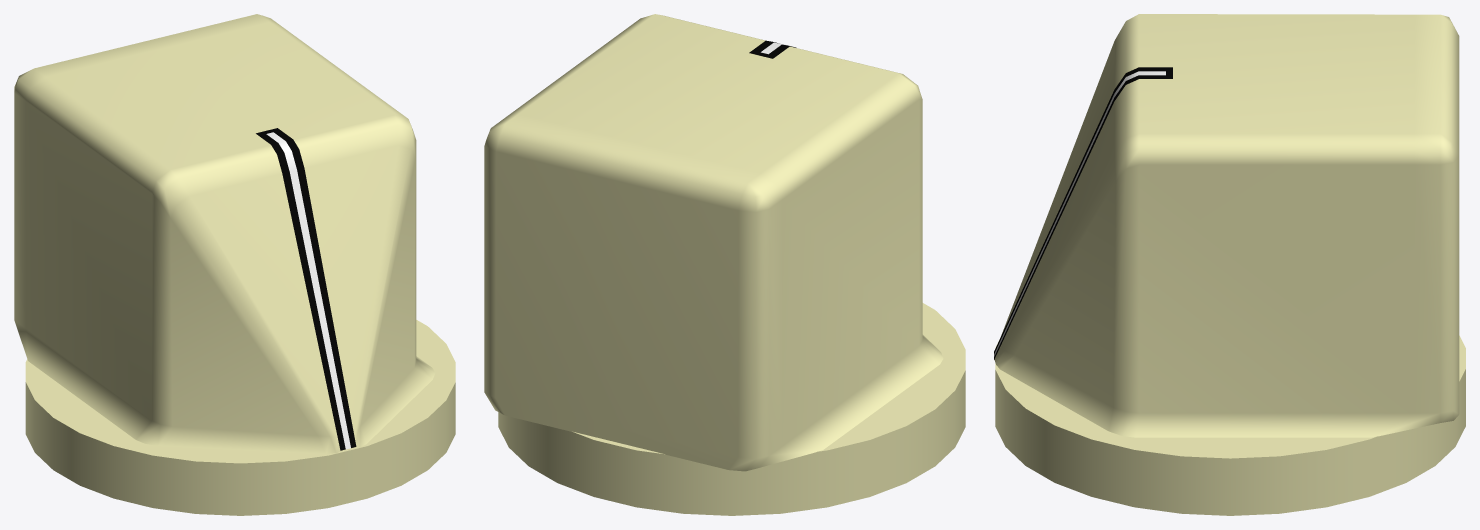
Rendered from Pull_Selector_Knob_V1.fbx.
3 renders of one model, left to right at view 1: azimuth 30°, elevation 25°; view 2: azimuth 150°, elevation 25°; view 3: azimuth 270°, elevation 25°, orthographic. The views are drawn at different scales.
Parts seen in each view (by area): view 1: Knob, Pull_Selector_Knob, Trim; view 2: Knob, Pull_Selector_Knob; view 3: Knob, Pull_Selector_Knob, Trim.
Boxes of the visible parts, box(x1,y1,x2,y2) form: Knob: box(14, 14, 435, 453); Pull_Selector_Knob: box(25, 320, 455, 515); Trim: box(256, 128, 356, 450); Knob: box(484, 14, 943, 471); Pull_Selector_Knob: box(498, 303, 965, 515); Knob: box(994, 14, 1459, 437); Pull_Selector_Knob: box(995, 335, 1465, 515); Trim: box(994, 67, 1172, 359).
Bounding box in the file's own units: 2.27 × 1.81 × 2.26.
